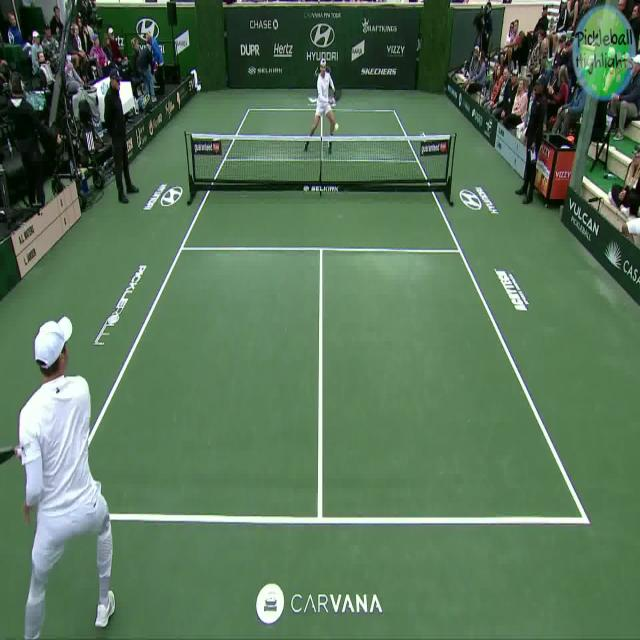ball: (335, 122, 338, 130)
